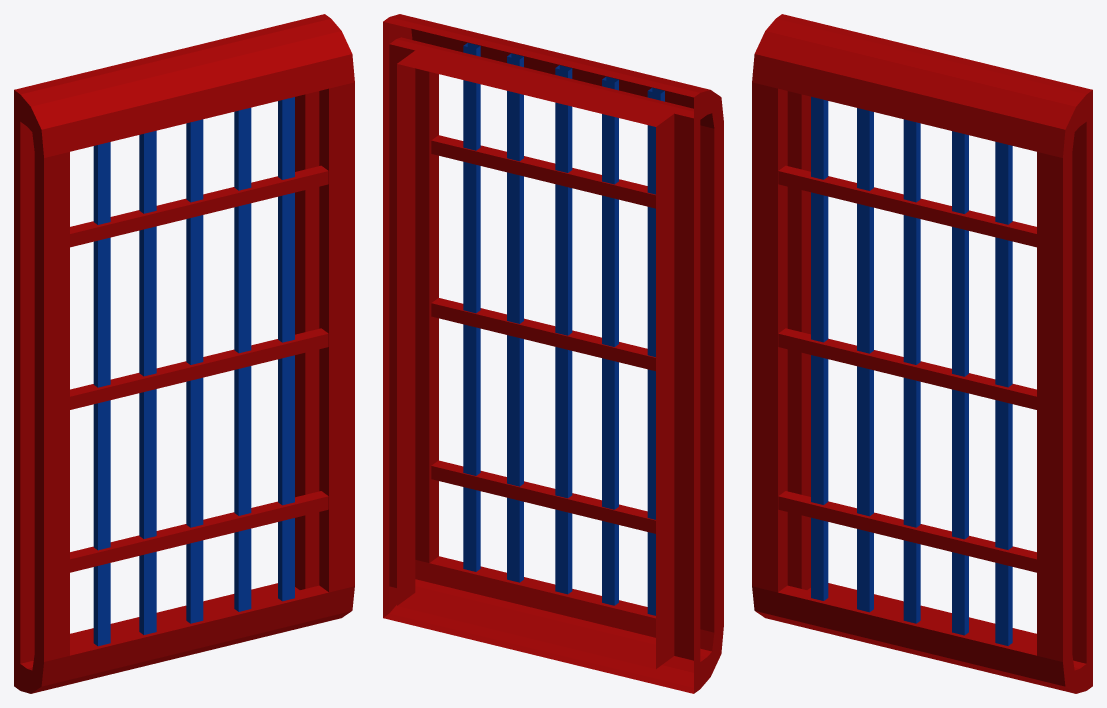
File: WindowsSmallDetails.fbx
3 views of the same model, side by side, from view 1: azimuth 30°, elevation 25°; view 2: azimuth 150°, elevation 25°; view 3: azimuth 330°, elevation 25° (orthographic).
Parts seen in each view (by area): view 1: WindowsSmallDetails; view 2: WindowsSmallDetails; view 3: WindowsSmallDetails.
Boxes of the visible parts, box(x1,y1,x2,y2) form: WindowsSmallDetails: box(14, 14, 354, 693); WindowsSmallDetails: box(383, 14, 723, 693); WindowsSmallDetails: box(752, 14, 1092, 693).
Size of the model in its own units: 120 by 220 by 28.11.
